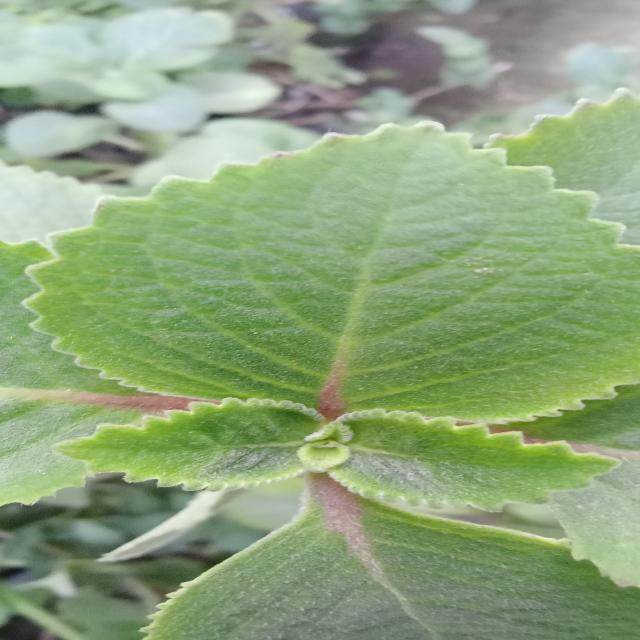Oregano: (42, 106, 640, 451)
